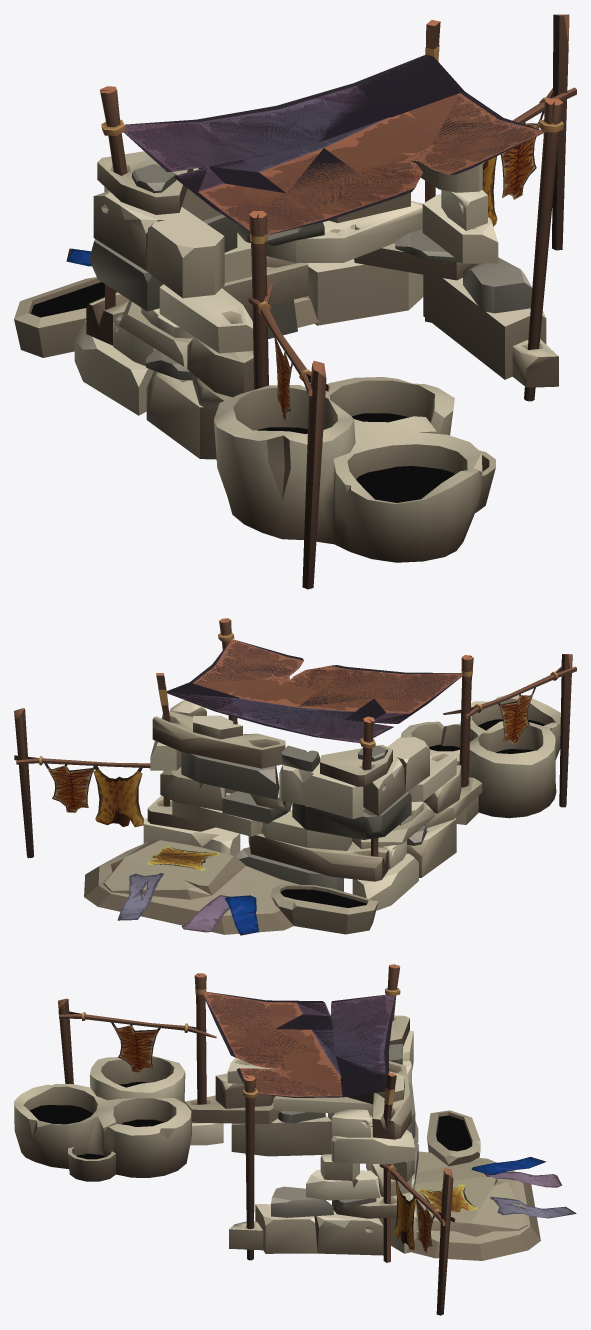
Rendered from Tannery_2B.fbx.
3 views of the same model, one above another, from view 1: azimuth 30°, elevation 25°; view 2: azimuth 150°, elevation 25°; view 3: azimuth 270°, elevation 25° (orthographic). The views are drawn at different scales.
Visible parts, largest first — view 1: Tannery_2B; view 2: Tannery_2B; view 3: Tannery_2B.
Part boxes in pixels (box(x1,y1,x2,y2)): Tannery_2B: box(14, 14, 576, 589); Tannery_2B: box(14, 618, 576, 935); Tannery_2B: box(14, 964, 576, 1315).
Bounding box in the file's own units: 840 × 416 × 1080.
